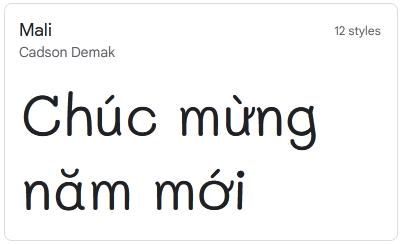text: (23, 90, 318, 153), (23, 166, 246, 213), (18, 45, 116, 58), (334, 24, 381, 39), (18, 21, 53, 38)
